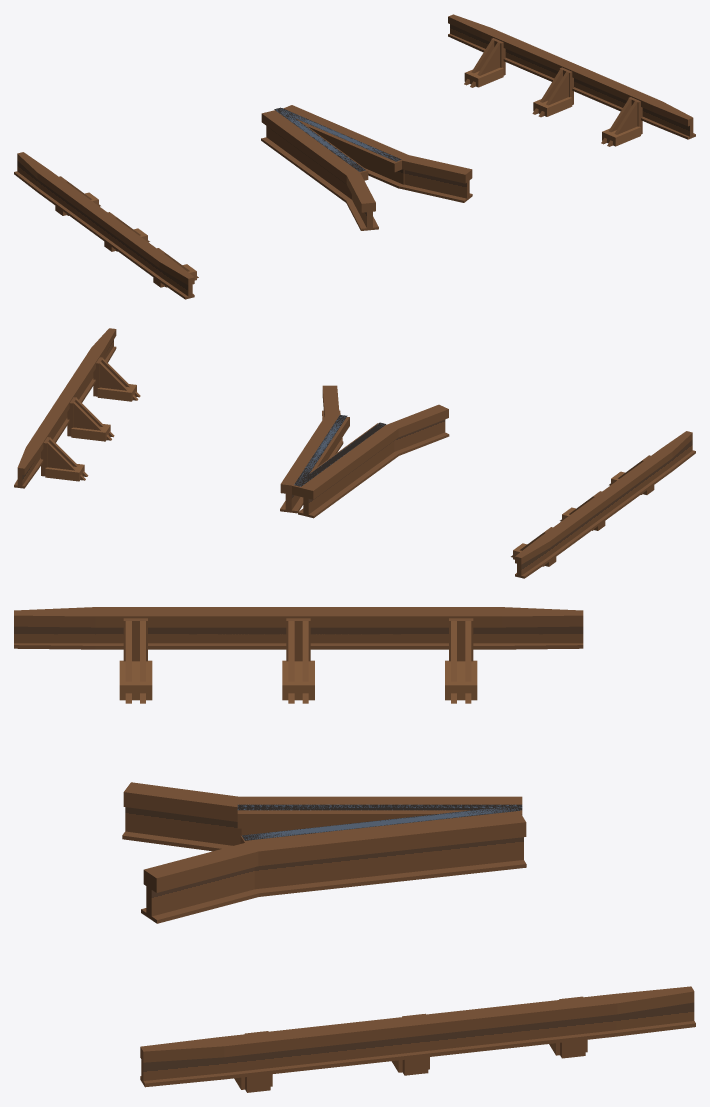
File: frog_4.obj
3 renders of one model, top to bottom at view 1: azimuth 30°, elevation 25°; view 2: azimuth 150°, elevation 25°; view 3: azimuth 270°, elevation 25°, orthographic. The views are drawn at different scales.
Parts seen in each view (by area): view 1: cube; view 2: cube; view 3: cube.
Part boxes in pixels (x1,y1,x2,y2): cube: (14,14,695,299); cube: (14,328,695,578); cube: (14,607,695,1092).
Size of the model in its own units: 3.25 by 0.1937 by 2.1.
